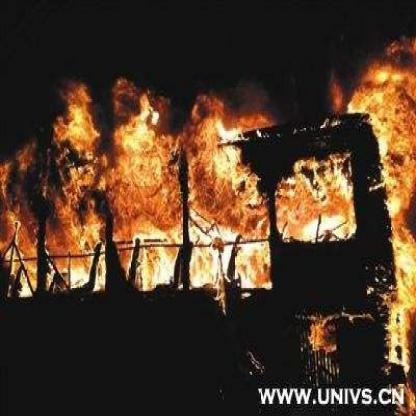fire: (8, 52, 412, 362)
